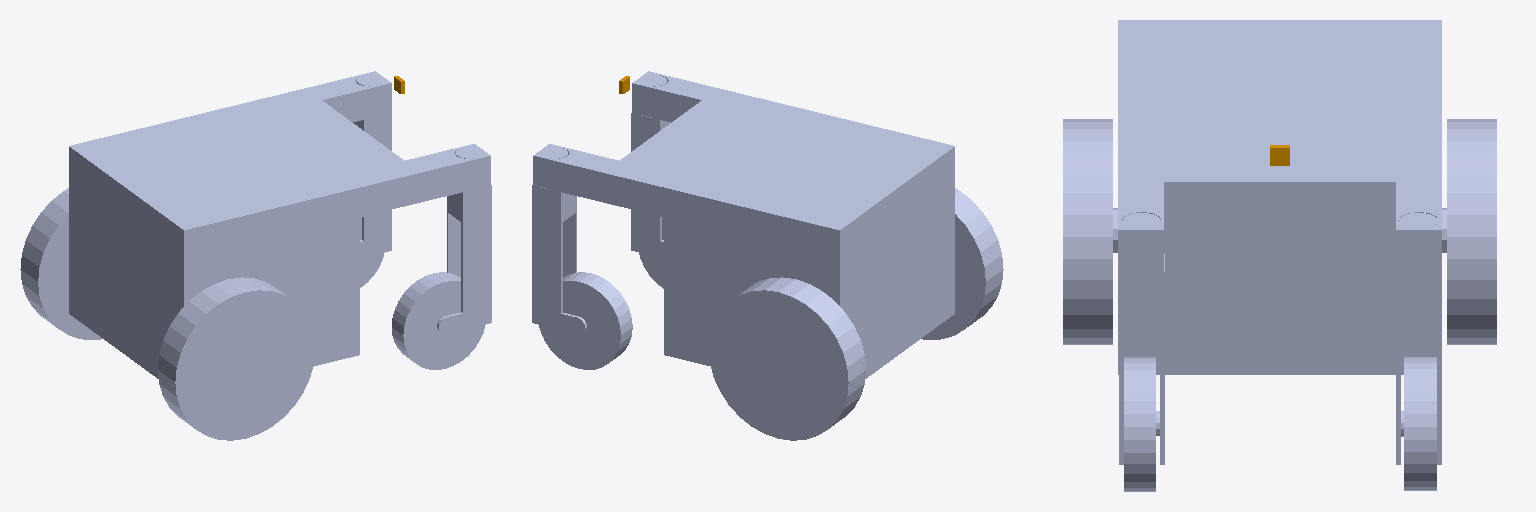
robot.urdf — wheele:
<?xml version="1.0" encoding="utf-8"?>
<!-- This URDF was automatically created by SolidWorks to URDF Exporter! Originally created by [author] ([email redacted]) 
     Commit Version: 1.6.0-4-g7f85cfe  Build Version: 1.6.7995.38578
     For more information, please see http://wiki.ros.org/sw_urdf_exporter -->
<robot
  name="wheele">
  <link
    name="base_link">
    <inertial>
      <origin
        xyz="-0.036424 0.011524 0.45653"
        rpy="0 0 0" />
      <mass
        value="50" />
      <inertia
        ixx="0.1"
        ixy="0"
        ixz="0"
        iyy="0.1"
        iyz="0"
        izz="0.1" />
    </inertial>
    <visual>
      <origin
        xyz="0 0 0"
        rpy="0 0 0" />
      <geometry>
        <mesh
          filename="package://wheele_description/meshes/base_link.STL" />
      </geometry>
      <material
        name="">
        <color
          rgba="0.79216 0.81961 0.93333 1" />
      </material>
    </visual>
    <collision>
      <origin
        xyz="0 0 0"
        rpy="0 0 0" />
      <geometry>
        <mesh
          filename="package://wheele_description/meshes/base_link.STL" />
      </geometry>
    </collision>
  </link>
  <link
    name="pivot_fr">
    <inertial>
      <origin
        xyz="-0.0079697 1.3448E-05 -0.16908"
        rpy="0 0 0" />
      <mass
        value="0.91219" />
      <inertia
        ixx="0.001"
        ixy="0"
        ixz="0"
        iyy="0.001"
        iyz="0"
        izz="0.001" />
    </inertial>
    <visual>
      <origin
        xyz="0 0 0"
        rpy="0 0 0" />
      <geometry>
        <mesh
          filename="package://wheele_description/meshes/pivot_fr.STL" />
      </geometry>
      <material
        name="">
        <color
          rgba="0.79216 0.81961 0.93333 1" />
      </material>
    </visual>
    <collision>
      <origin
        xyz="0 0 0"
        rpy="0 0 0" />
      <geometry>
        <mesh
          filename="package://wheele_description/meshes/pivot_fr.STL" />
      </geometry>
    </collision>
  </link>
  <joint
    name="joint_pivot_fr"
    type="continuous">
    <origin
      xyz="0.429988943278938 -0.210751292864914 0.394"
      rpy="0 0 0" />
    <parent
      link="base_link" />
    <child
      link="pivot_fr" />
    <axis
      xyz="0 0 -1" />
  </joint>
  <link
    name="wheel_fr">
    <inertial>
      <origin
        xyz="-0.00013404 0.0325 -0.0015201"
        rpy="1.57079 0 0" />
      <mass
        value="4.6475" />
      <inertia
        ixx="0.001"
        ixy="0"
        ixz="0"
        iyy="0.001"
        iyz="0"
        izz="0.001" />
    </inertial>
    <visual>
      <origin
        xyz="-0.00013404 0.0325 -0.0015201"
        rpy="1.57079 0 0" />
      <geometry>
        <cylinder length="0.05" radius="0.1025" />
      </geometry>
      <material
        name="">
        <color
          rgba="0.79216 0.81961 0.93333 1" />
      </material>
    </visual>
    <collision>
      <origin
        xyz="-0.00013404 0.0325 -0.0015201"
        rpy="1.57079 0 0" />
      <geometry>
        <cylinder length="0.05" radius="0.1025" />
      </geometry>
    </collision>
  </link>
  <joint
    name="joint_wheel_fr"
    type="continuous">
    <origin
      xyz="-0.0749999999998487 -0.035000000000324 -0.3755"
      rpy="0 0 0" />
    <parent
      link="pivot_fr" />
    <child
      link="wheel_fr" />
    <axis
      xyz="0 -1 0" />
  </joint>
  <link
    name="pivot_fl">
    <inertial>
      <origin
        xyz="-0.0079697 1.3448E-05 -0.16908"
        rpy="0 0 0" />
      <mass
        value="0.91219" />
      <inertia
        ixx="0.001"
        ixy="0"
        ixz="0"
        iyy="0.001"
        iyz="0"
        izz="0.001" />
    </inertial>
    <visual>
      <origin
        xyz="0 0 0"
        rpy="0 0 0" />
      <geometry>
        <mesh
          filename="package://wheele_description/meshes/pivot_fl.STL" />
      </geometry>
      <material
        name="">
        <color
          rgba="0.79216 0.81961 0.93333 1" />
      </material>
    </visual>
    <collision>
      <origin
        xyz="0 0 0"
        rpy="0 0 0" />
      <geometry>
        <mesh
          filename="package://wheele_description/meshes/pivot_fl.STL" />
      </geometry>
    </collision>
  </link>
  <joint
    name="joint_pivot_fl"
    type="continuous">
    <origin
      xyz="0.429988943278938 0.21125 0.394"
      rpy="0 0 0" />
    <parent
      link="base_link" />
    <child
      link="pivot_fl" />
    <axis
      xyz="0 0 -1" />
  </joint>
  <link
    name="wheel_fl">
    <inertial>
      <origin
        xyz="-0.0010653 -0.0325 -0.0010926"
        rpy="1.57079 0 0" />
      <mass
        value="4.6475" />
      <inertia
        ixx="0.001"
        ixy="0"
        ixz="0"
        iyy="0.001"
        iyz="0"
        izz="0.001" />
    </inertial>
    <visual>
      <origin
        xyz="-0.0010653 -0.0325 -0.0010926"
        rpy="1.57079 0 0" />
      <geometry>
        <cylinder length="0.05" radius="0.1025" />
      </geometry>
      <material
        name="">
        <color
          rgba="0.79216 0.81961 0.93333 1" />
      </material>
    </visual>
    <collision>
      <origin
        xyz="-0.0010653 -0.0325 -0.0010926"
        rpy="1.57079 0 0" />
      <geometry>
        <cylinder length="0.05" radius="0.1025" />
      </geometry>
    </collision>
  </link>
  <joint
    name="joint_wheel_fl"
    type="continuous">
    <origin
      xyz="-0.075 0.035 -0.3755"
      rpy="0 0 0" />
    <parent
      link="pivot_fl" />
    <child
      link="wheel_fl" />
    <axis
      xyz="0 -1 0" />
  </joint>
  <link
    name="wheel_br">
    <inertial>
      <origin
        xyz="-8.263E-06 0.0375 -0.0019459"
        rpy="1.57079 0 0" />
      <mass
        value="19.819" />
      <inertia
        ixx="0.005"
        ixy="0"
        ixz="0"
        iyy="0.005"
        iyz="0"
        izz="0.005" />
    </inertial>
    <visual>
      <origin
        xyz="-8.263E-06 0.0375 -0.0019459"
        rpy="1.57079 0 0" />
      <geometry>
        <cylinder length="0.075" radius="0.1725" />
      </geometry>
      <material
        name="">
        <color
          rgba="0.79216 0.81961 0.93333 1" />
      </material>
    </visual>
    <collision>
      <origin
        xyz="-8.263E-06 0.0375 -0.0019459"
        rpy="1.57079 0 0" />
      <geometry>
        <cylinder length="0.075" radius="0.1725" />
      </geometry>
    </collision>
  </link>
  <joint
    name="joint_wheel_br"
    type="continuous">
    <origin
      xyz="-0.189 -0.33 0.0885"
      rpy="0 0 0" />
    <parent
      link="base_link" />
    <child
      link="wheel_br" />
    <axis
      xyz="0 1 0" />
  </joint>
  <link
    name="wheel_bl">
    <inertial>
      <origin
        xyz="8.263E-06 -0.0375 -0.0019459"
        rpy="1.57079 0 0" />
      <mass
        value="19.819" />
      <inertia
        ixx="0.005"
        ixy="0"
        ixz="0"
        iyy="0.005"
        iyz="0"
        izz="0.005" />
    </inertial>
    <visual>
      <origin
        xyz="8.263E-06 -0.0375 -0.0019459"
        rpy="1.57079 0 0" />
      <geometry>
        <cylinder length="0.075" radius="0.1725" />
      </geometry>
      <material
        name="">
        <color
          rgba="0.79216 0.81961 0.93333 1" />
      </material>
    </visual>
    <collision>
      <origin
        xyz="8.263E-06 -0.0375 -0.0019459"
        rpy="1.57079 0 0" />
      <geometry>
        <cylinder length="0.075" radius="0.1725" />
      </geometry>
    </collision>
  </link>
  <joint
    name="joint_wheel_bl"
    type="continuous">
    <origin
      xyz="-0.189 0.33 0.0885"
      rpy="0 0 0" />
    <parent
      link="base_link" />
    <child
      link="wheel_bl" />
    <axis
      xyz="0 1 0" />
  </joint>


// ---- GAZEBO ----

  <link name="dummy">
  </link>
  <joint name="dummy_joint" type="fixed">
     <parent link="dummy"/>
     <child link="base_link"/>
  </joint>

  <joint name="camera_joint" type="fixed">
    <parent link="base_link"/>
    <child link="camera_link"/>
    <origin xyz="0.38 0 0.48" rpy="0 0 0"/>
  </joint>

  <link name="camera_link">
    <visual>
      <geometry>
        <box size="0.010 0.03 0.03"/>
      </geometry>
    </visual>
  </link>

  <gazebo reference="camera_link">
    <sensor name="camera" type="depth">
      <update_rate>20</update_rate>
      <pose> 0 0 0 0 0 0 </pose>
      <visualize>true</visualize>
      <camera>
        <horizontal_fov>1.047198</horizontal_fov>
        <image>
          <width>640</width>
          <height>480</height>
          <format>R8G8B8</format>
        </image>
        <clip>
          <near>0.05</near>
          <far>5</far>
        </clip>
      </camera>

      <plugin name="camera_plugin" filename="libgazebo_ros_openni_kinect.so">
        <baseline>0.2</baseline>
        <alwaysOn>true</alwaysOn>
        <!-- Keep this zero, update_rate in the parent <sensor> tag
          will control the frame rate. -->
        <updateRate>0.0</updateRate>
        <cameraName>camera_ir</cameraName>
        <imageTopicName>/camera/color/image_raw</imageTopicName>
        <cameraInfoTopicName>/camera/color/camera_info</cameraInfoTopicName>
        <depthImageTopicName>/camera/depth/image_raw</depthImageTopicName>
        <depthImageCameraInfoTopicName>/camera/depth/camera_info</depthImageCameraInfoTopicName>
        <pointCloudTopicName>/camera/depth/points</pointCloudTopicName>
        <frameName>camera_link</frameName>
        <pointCloudCutoff>0.5</pointCloudCutoff>
        <pointCloudCutoffMax>5.0</pointCloudCutoffMax>
        <distortionK1>0</distortionK1>
        <distortionK2>0</distortionK2>
        <distortionK3>0</distortionK3>
        <distortionT1>0</distortionT1>
        <distortionT2>0</distortionT2>
        <CxPrime>0</CxPrime>
        <Cx>0</Cx>
        <Cy>0</Cy>
        <focalLength>0</focalLength>
        <hackBaseline>0</hackBaseline>
      </plugin>
    </sensor>
  </gazebo> 

  <gazebo> 
    <plugin name="odom_plugin" filename="libgazebo_ros_p3d.so">
      <alwaysOn>true</alwaysOn>
      <updateRate>50.0</updateRate>
      <bodyName>base_link</bodyName>
      <topicName>/odom</topicName>
      <gaussianNoise>0.0</gaussianNoise>
      <frameName>map</frameName>
    </plugin>
  </gazebo> 

  <transmission name="tran_wheel_back_right">
    <type>transmission_interface/SimpleTransmission</type>
    <joint name="joint_wheel_br">
      <hardwareInterface>hardware_interface/VelocityJointInterface</hardwareInterface>
    </joint>
    <actuator name="motor_wheel_back_right">
      <hardwareInterface>hardware_interface/VelocityJointInterface</hardwareInterface>
      <mechanicalReduction>1</mechanicalReduction>
    </actuator>
  </transmission>

  <transmission name="tran_wheel_back_left">
    <type>transmission_interface/SimpleTransmission</type>
    <joint name="joint_wheel_bl">
      <hardwareInterface>hardware_interface/VelocityJointInterface</hardwareInterface>
    </joint>
    <actuator name="motor_wheel_back_left">
      <hardwareInterface>hardware_interface/VelocityJointInterface</hardwareInterface>
      <mechanicalReduction>1</mechanicalReduction>
    </actuator>
  </transmission>

  <gazebo>
    <plugin name="gazebo_ros_control" filename="libgazebo_ros_control.so">
      <robotNamespace>/wheele</robotNamespace>
    </plugin>
  </gazebo>

</robot>

--- Facts derived from the render (not from the file) ---
Views: 3 orthographic renders of the robot side by side, from view 1: azimuth 30°, elevation 25°; view 2: azimuth 150°, elevation 25°; view 3: azimuth 270°, elevation 25°.
Robot: wheele — 9 links, 8 joints (6 continuous, 2 fixed); root link dummy; default pose: every joint at zero.
Visible links, largest first — view 1: base_link, wheel_br, pivot_fr, wheel_fr, wheel_bl, pivot_fl, wheel_fl; view 2: base_link, wheel_bl, pivot_fl, wheel_fl, wheel_br, pivot_fr, wheel_fr; view 3: base_link, wheel_br, wheel_bl, wheel_fl, wheel_fr, pivot_fr, pivot_fl.
Link boxes in pixels (x1,y1,x2,y2): base_link: [69, 71, 490, 378]; wheel_br: [158, 277, 315, 440]; pivot_fr: [437, 147, 491, 334]; wheel_fr: [392, 272, 484, 369]; wheel_bl: [20, 188, 102, 339]; pivot_fl: [353, 75, 391, 257]; wheel_fl: [360, 217, 383, 287]; base_link: [533, 71, 954, 378]; wheel_bl: [708, 277, 865, 440]; pivot_fl: [532, 147, 586, 334]; wheel_fl: [539, 272, 632, 369]; wheel_br: [921, 188, 1003, 339]; pivot_fr: [631, 75, 670, 258]; wheel_fr: [639, 217, 663, 288]; base_link: [1113, 20, 1446, 374]; wheel_br: [1063, 119, 1112, 344]; wheel_bl: [1447, 119, 1496, 344]; wheel_fl: [1404, 357, 1436, 490]; wheel_fr: [1124, 357, 1155, 491]; pivot_fr: [1119, 213, 1164, 464]; pivot_fl: [1396, 213, 1441, 464].
Bounding box of the posed robot: 0.8265 × 0.66 × 0.5809 m (x, y, z).
3 mesh visuals loaded from 3 distinct referenced files (3 binary STL).
